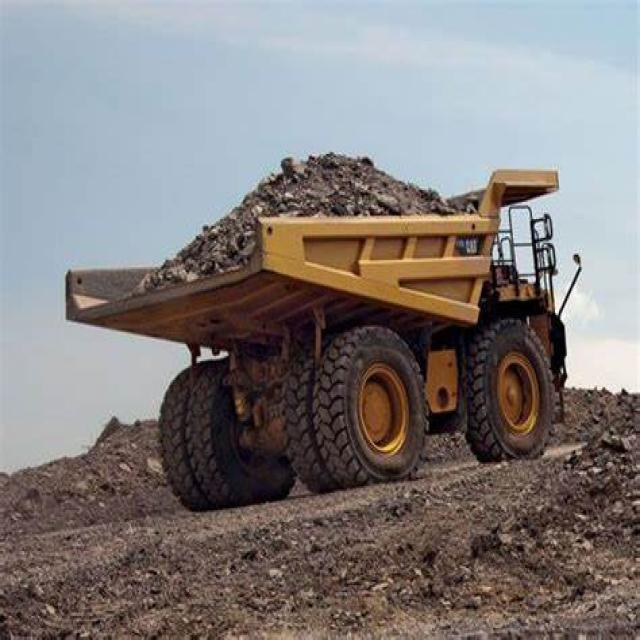dump_truck: (50, 121, 587, 506)
